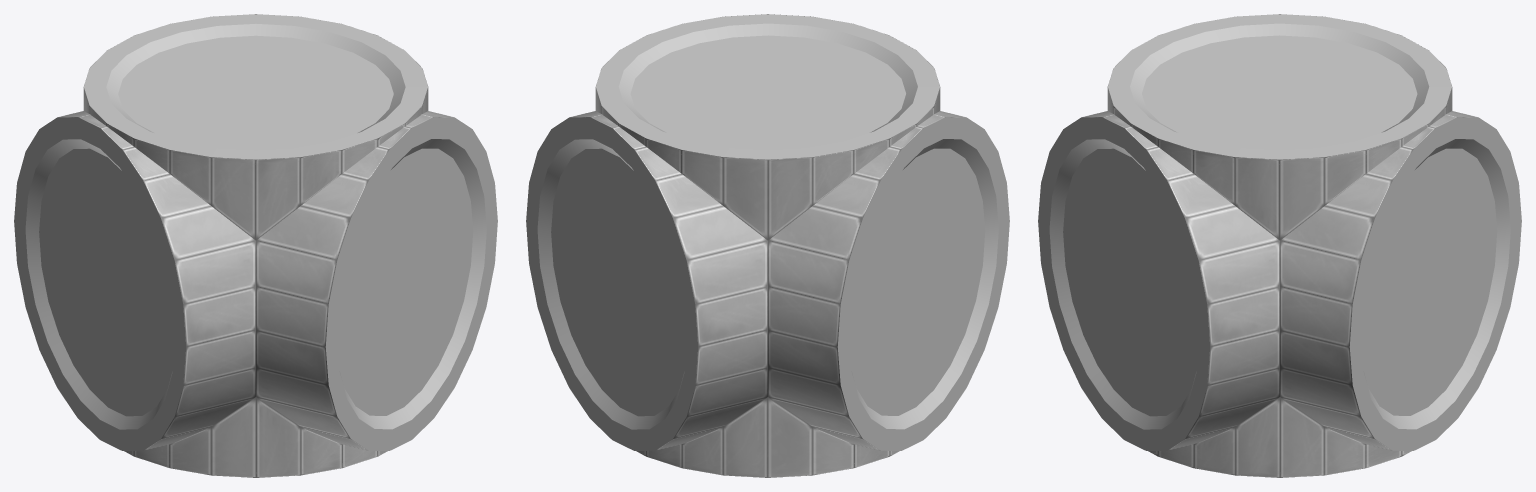
File: MOL_Adapter_ThreeWay.dae
3 views of the same model, side by side, from view 1: azimuth 30°, elevation 25°; view 2: azimuth 150°, elevation 25°; view 3: azimuth 270°, elevation 25° (orthographic).
Parts seen in each view (by area): view 1: polySurface79, polySurface91, polySurface84; view 2: polySurface79, polySurface91, polySurface84; view 3: polySurface79, polySurface91, polySurface84.
Part boxes in pixels (x1,y1,x2,y2): polySurface79: (39,35,473,416); polySurface91: (58,14,453,477); polySurface84: (14,14,497,450); polySurface79: (551,35,985,416); polySurface91: (570,14,965,477); polySurface84: (526,14,1009,450); polySurface79: (1063,35,1497,416); polySurface91: (1082,14,1477,477); polySurface84: (1038,14,1521,450).
Bounding box in the file's own units: 1.82 × 1.53 × 2.11.
